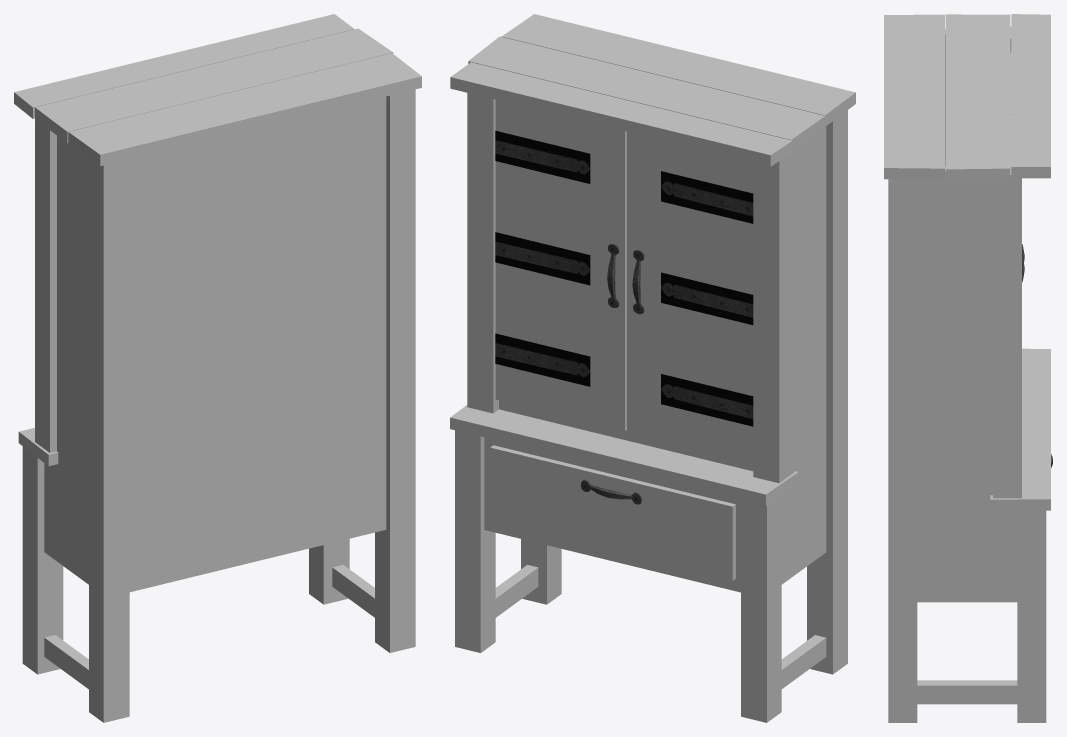
File: mw_wardrobe_06.FBX
The picture shows the model from 3 angles, left to right: view 1: azimuth 30°, elevation 25°; view 2: azimuth 150°, elevation 25°; view 3: azimuth 270°, elevation 25°; orthographic projection. The views are drawn at different scales.
Visible parts, largest first — view 1: mw_wardrobe_06; view 2: mw_wardrobe_06; view 3: mw_wardrobe_06.
Part boxes in pixels (<box>): mw_wardrobe_06: <box>14,14,421,722</box>; mw_wardrobe_06: <box>450,14,855,722</box>; mw_wardrobe_06: <box>884,14,1052,722</box>.
Bounding box in the file's own units: 151 × 253 × 69.43.
